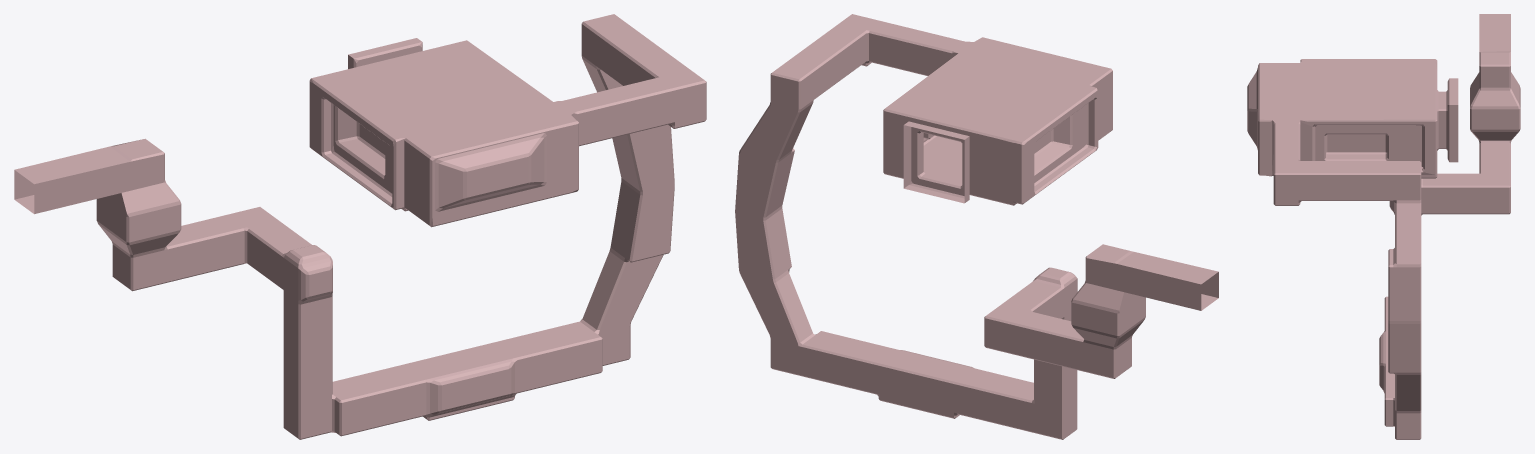
File: ReactorTunnel2.fbx
The picture shows the model from 3 angles, left to right: view 1: azimuth 30°, elevation 25°; view 2: azimuth 150°, elevation 25°; view 3: azimuth 270°, elevation 25°; orthographic projection. The views are drawn at different scales.
Parts seen in each view (by area): view 1: 1-ReactorTunnel; view 2: 1-ReactorTunnel; view 3: 1-ReactorTunnel.
Boxes of the visible parts, box(x1,y1,x2,y2) form: 1-ReactorTunnel: box(14, 14, 706, 439); 1-ReactorTunnel: box(735, 14, 1218, 439); 1-ReactorTunnel: box(1247, 14, 1520, 439).
Bounding box in the file's own units: 1020 × 570 × 518.
